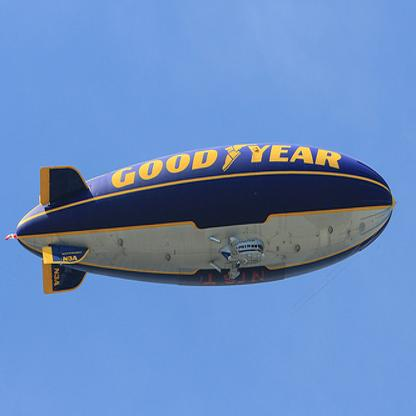Airship: (11, 142, 397, 297)
